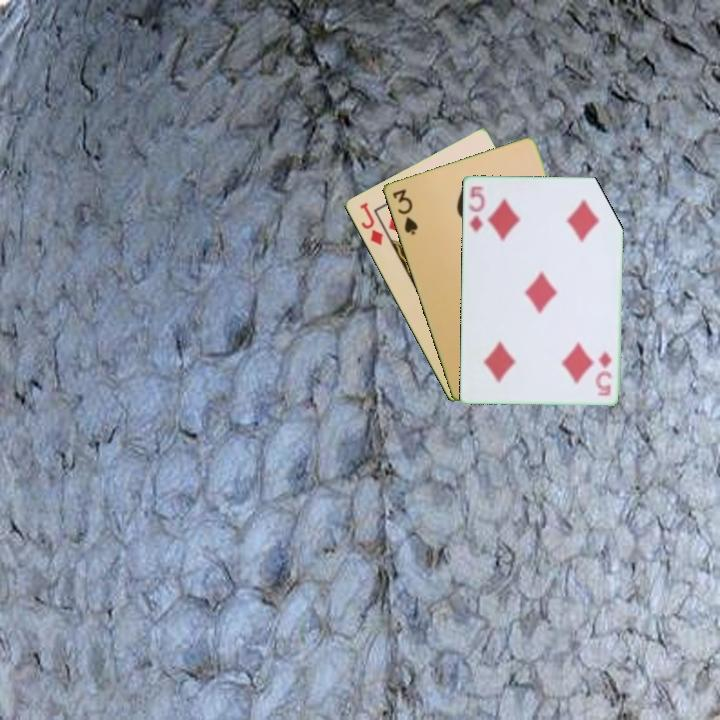3s: (389, 185, 420, 238)
5d: (465, 182, 487, 235), (594, 346, 615, 398)
Jd: (356, 199, 386, 248)
